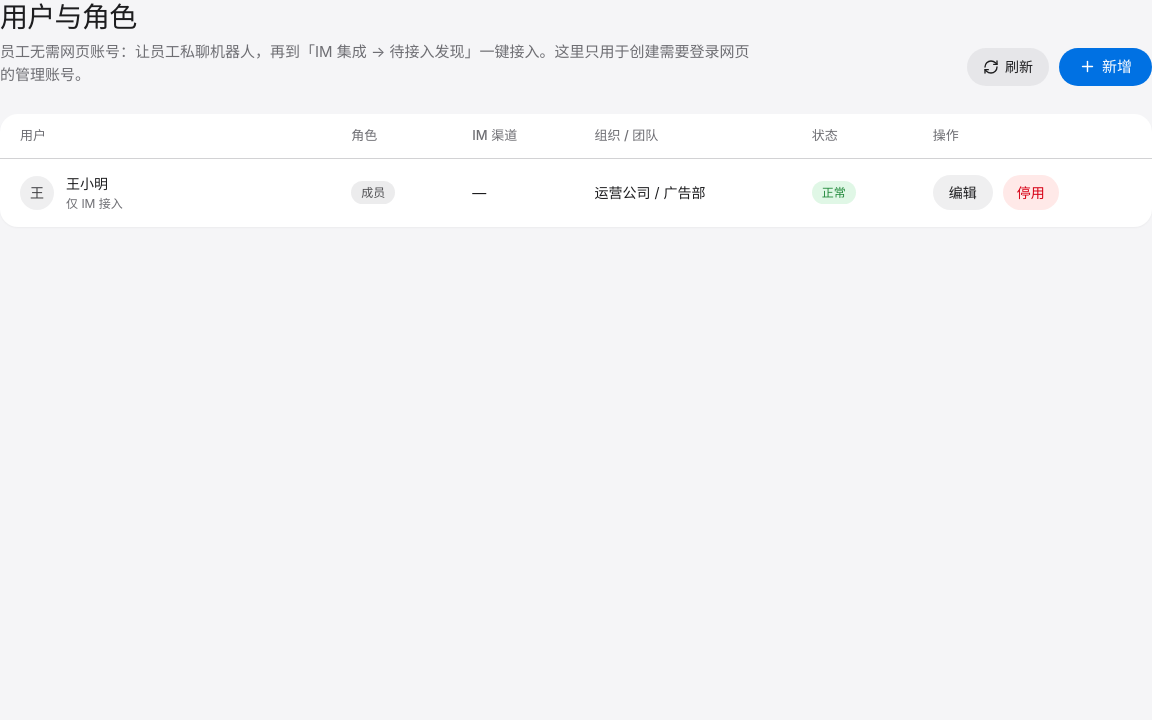
Test: renames a member through the dialog
Step 1. Click the button "编辑" → (963, 192), box left=933, top=175, right=993, bottom=210
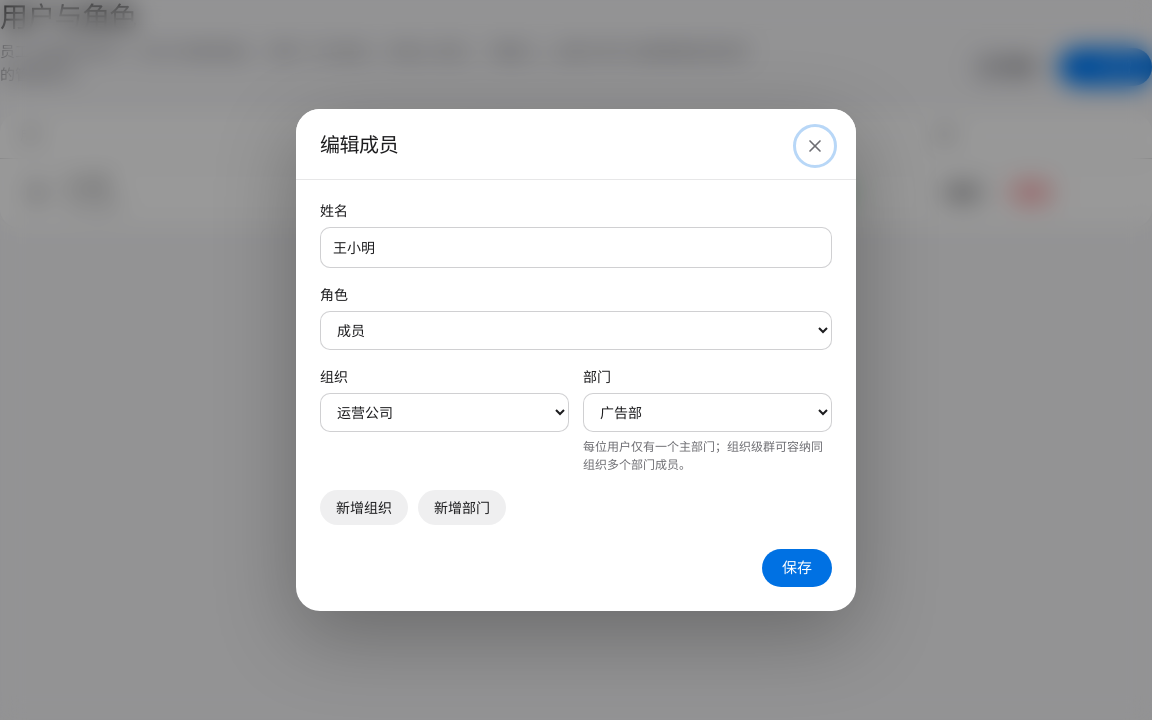
Result: the field labelled "姓名" holds "王小明"
Step 2. Replace the text in the field labelled "姓名" with "王小明（广告）" → (576, 247), box left=320, top=227, right=832, bottom=268
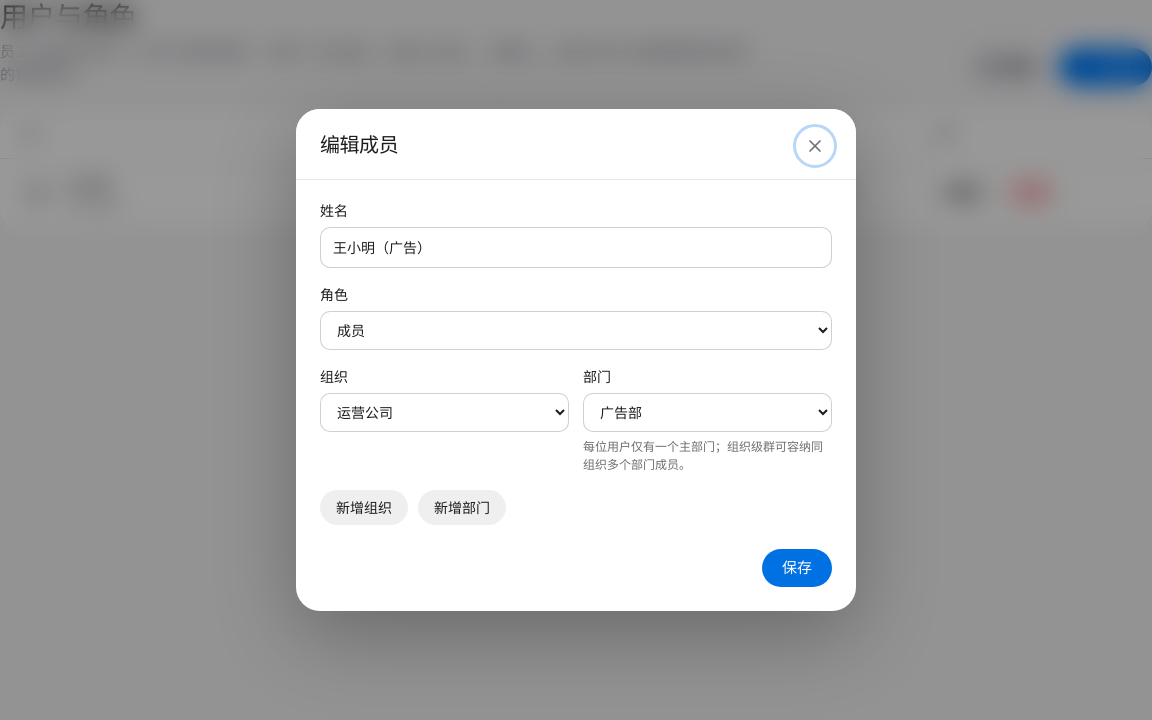
Step 3. Click the button "保存" → (797, 568), box left=762, top=549, right=832, bottom=587
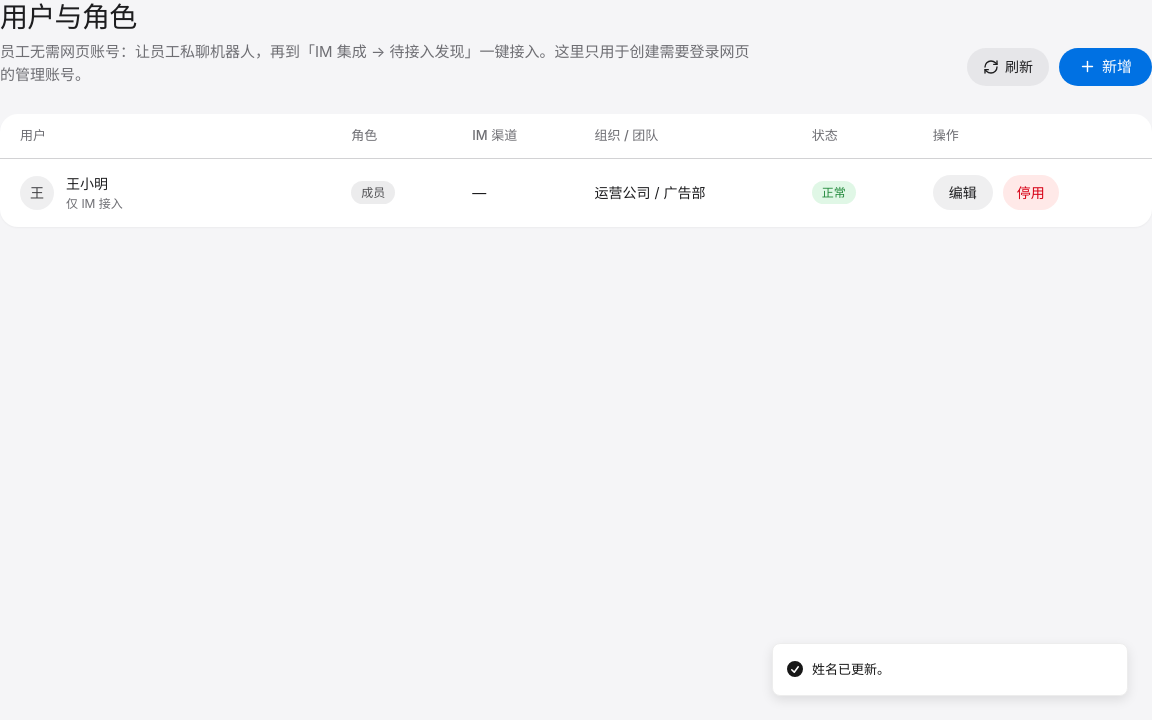
Result: the text "姓名已更新。" is shown at left=812, top=660, right=890, bottom=679
